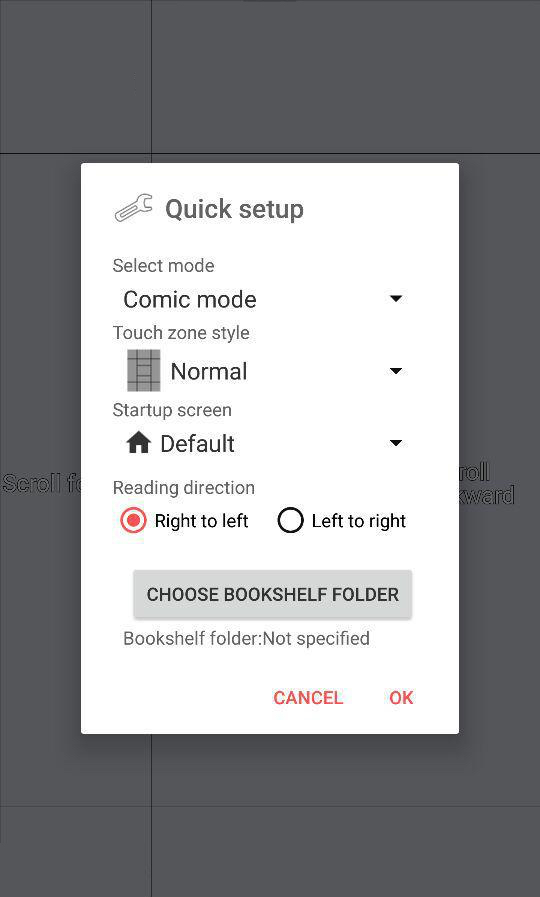CheckedTextView: (120, 506, 250, 535), (277, 506, 407, 534)
Icon: (126, 431, 153, 454), (390, 440, 403, 447), (390, 296, 403, 302), (390, 368, 403, 374)
Image: (127, 350, 161, 391), (115, 193, 153, 223)
Modal: (83, 164, 460, 734)
Text: (124, 630, 370, 647), (166, 198, 305, 224), (114, 480, 255, 499), (124, 289, 257, 309), (113, 325, 251, 344), (113, 403, 233, 421), (312, 512, 407, 532), (156, 513, 249, 532), (113, 258, 215, 273), (172, 362, 248, 382), (162, 433, 236, 453), (274, 690, 344, 705), (390, 691, 414, 705)
TextButton: (133, 569, 413, 621)
